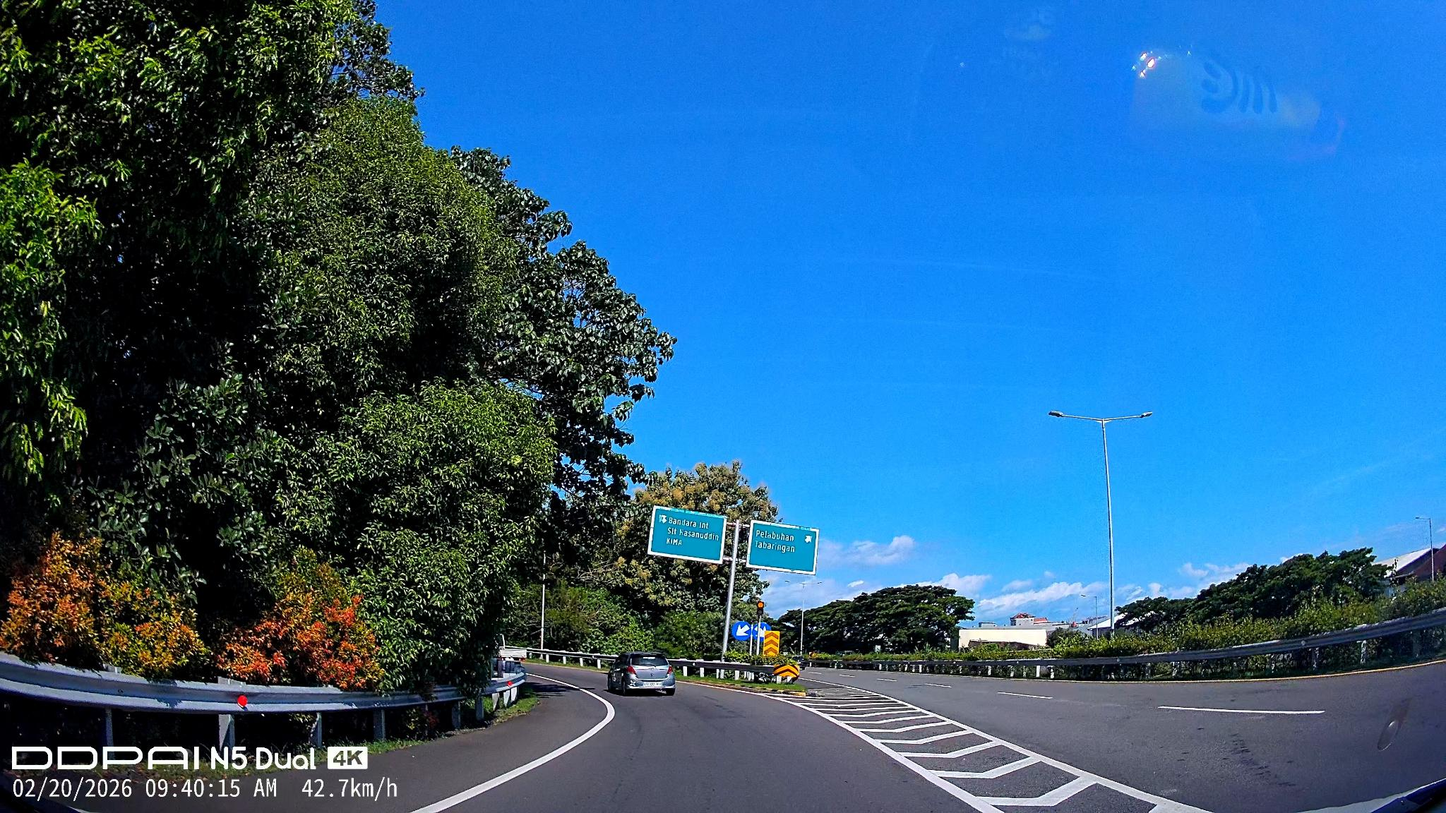rambu_teks: (651, 508, 723, 559), (751, 522, 816, 568)
